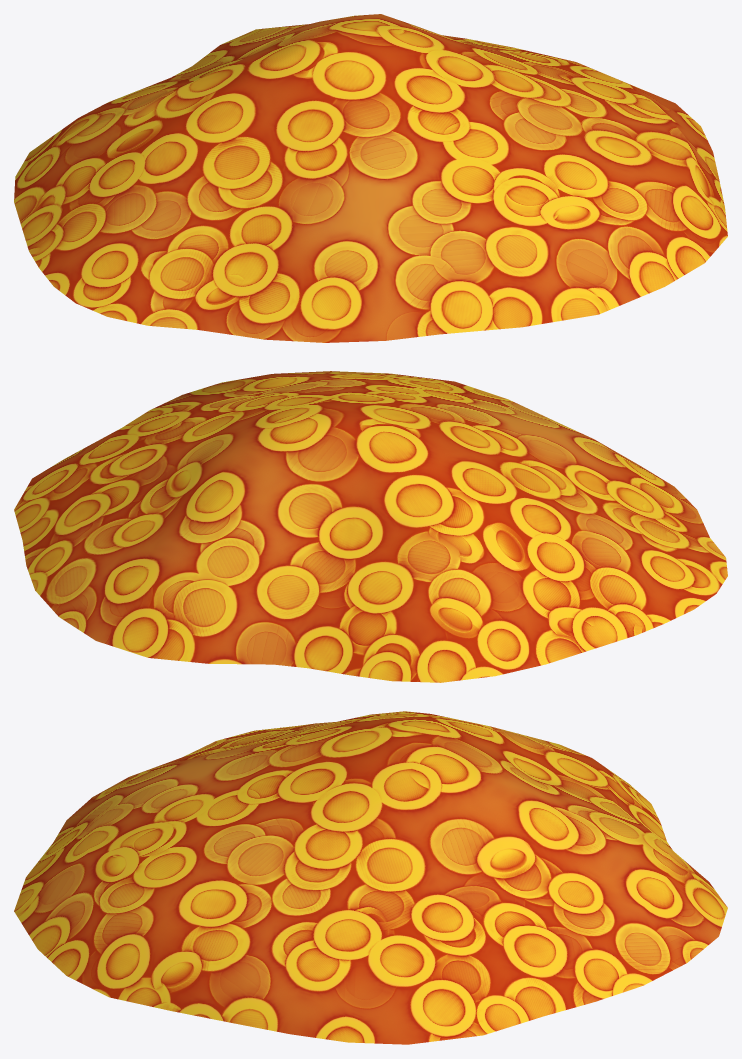
The model's file is SM_Large_Coin_Pile.fbx.
The picture shows the model from 3 angles, top to bottom: view 1: azimuth 30°, elevation 25°; view 2: azimuth 150°, elevation 25°; view 3: azimuth 270°, elevation 25°; orthographic projection. The views are drawn at different scales.
Parts seen in each view (by area): view 1: SM_Large_Coin_Pile_LOD0; view 2: SM_Large_Coin_Pile_LOD0; view 3: SM_Large_Coin_Pile_LOD0.
Part boxes in pixels (box(x1,y1,x2,y2)): SM_Large_Coin_Pile_LOD0: box(14, 14, 727, 342); SM_Large_Coin_Pile_LOD0: box(14, 371, 727, 682); SM_Large_Coin_Pile_LOD0: box(14, 711, 727, 1044).
Bounding box in the file's own units: 265 × 250 × 55.65.
1 material, 1 textured.
